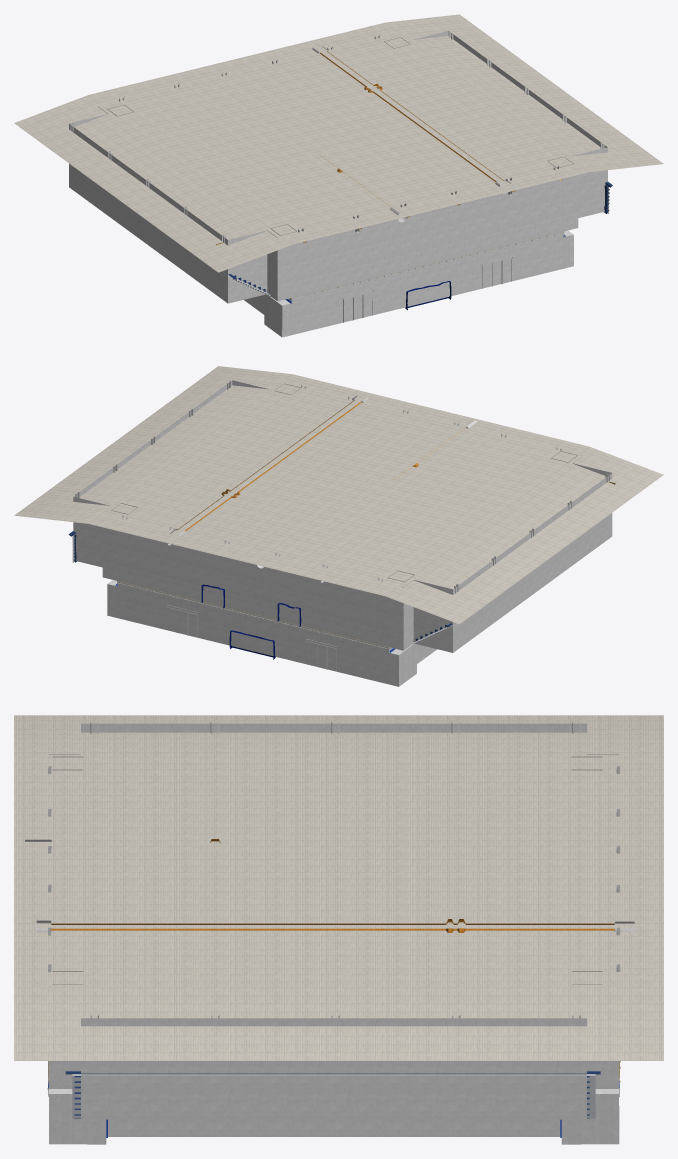
The model's file is Gym_finale.fbx.
3 views of the same model, one above another, from view 1: azimuth 30°, elevation 25°; view 2: azimuth 150°, elevation 25°; view 3: azimuth 270°, elevation 25° (orthographic). The views are drawn at different scales.
Parts seen in each view (by area): view 1: side1; view 2: side1; view 3: side1.
Boxes of the visible parts, x1=… form: side1: x1=14, y1=14, x2=663, y2=337; side1: x1=14, y1=366, x2=663, y2=686; side1: x1=14, y1=715, x2=663, y2=1144.
Bounding box in the file's own units: 270 × 61.29 × 214.
16 materials, 10 textured.
